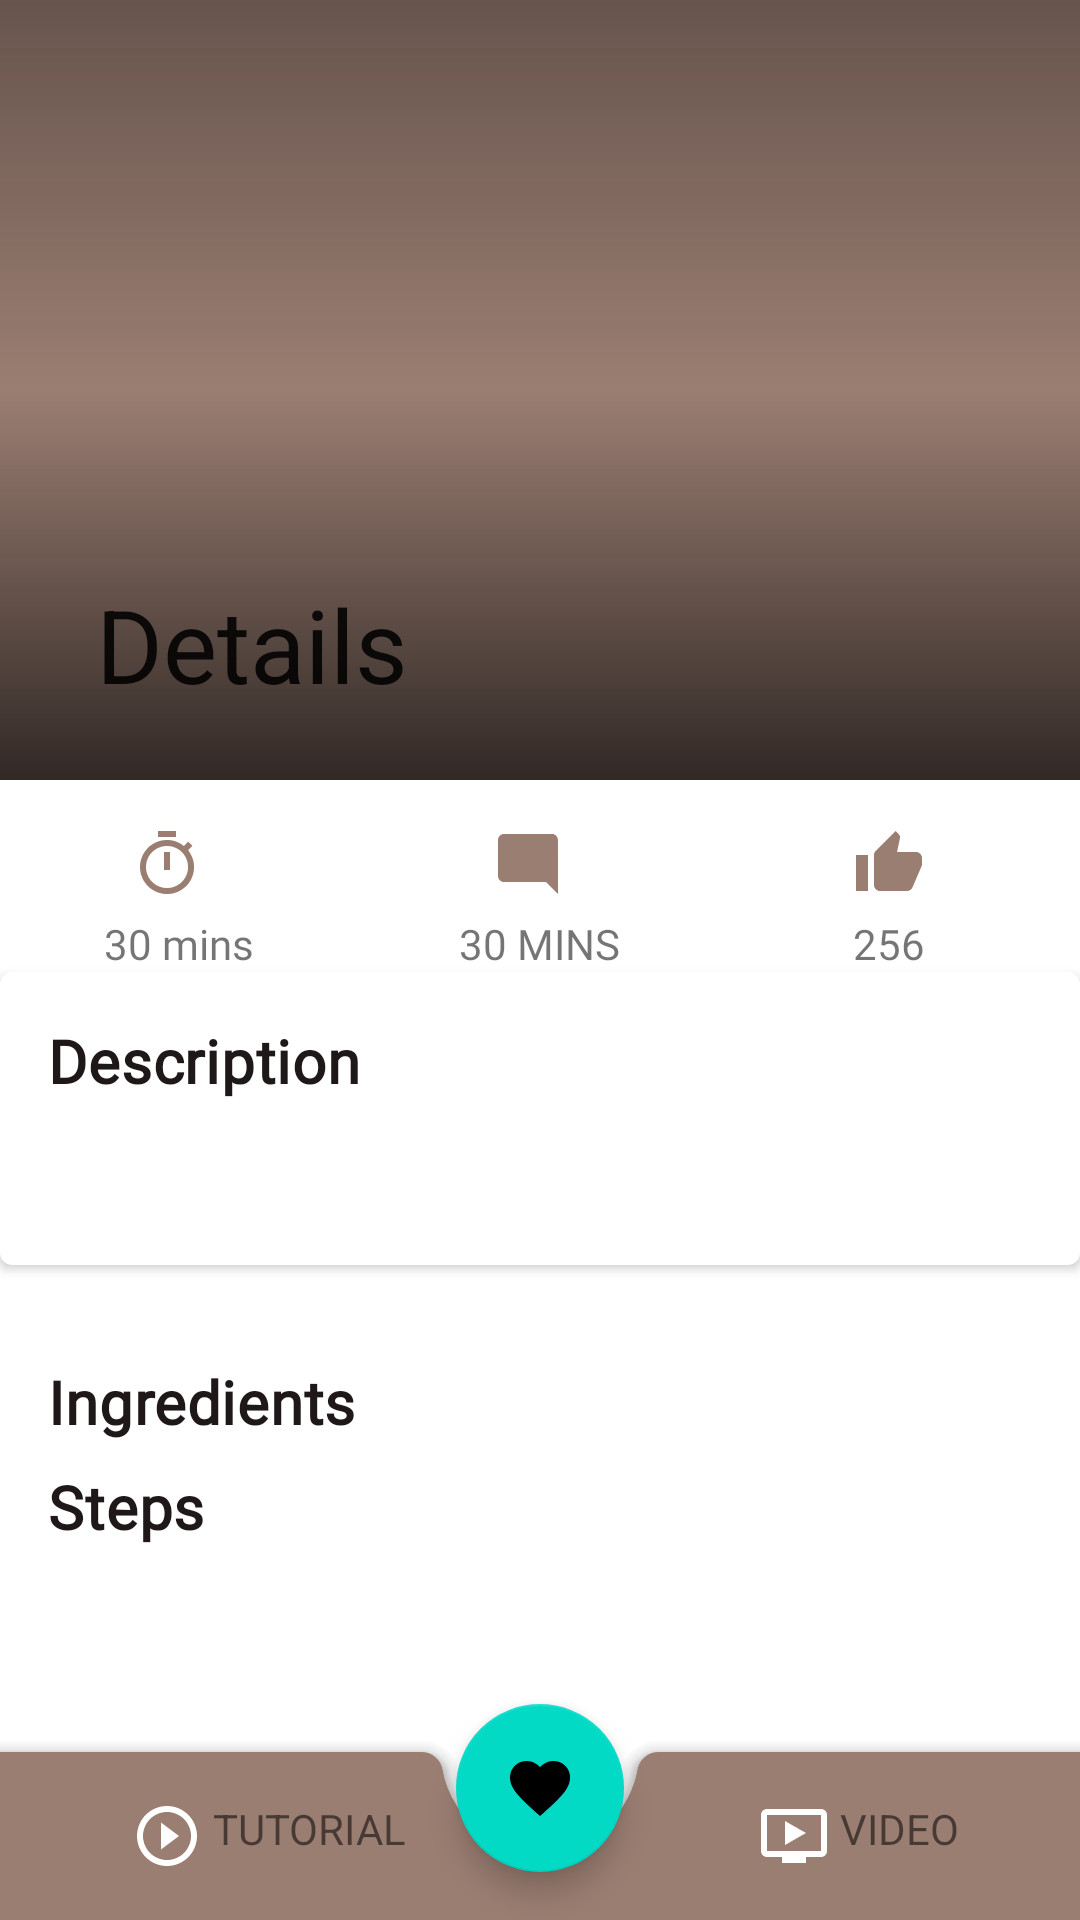

Icons on this 1080×1920 Android screen, each with the point to tap as point (x, y):
comment: point (528, 864)
favourites: point (540, 1788)
play: point (167, 1836)
thumb: point (889, 861)
timer: point (167, 862)
